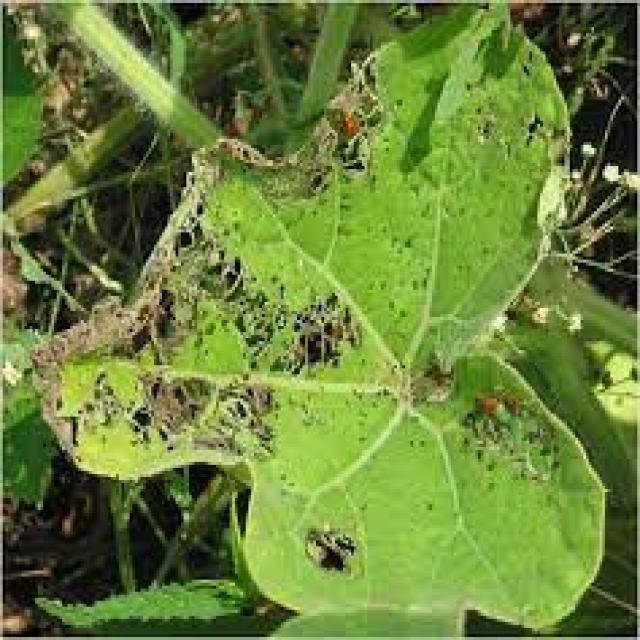Pumpkin Beetle: (128, 200, 368, 370), (135, 376, 316, 466), (30, 300, 124, 464), (458, 382, 566, 508), (311, 51, 399, 176), (461, 80, 568, 156), (294, 506, 382, 595), (203, 124, 302, 183), (386, 352, 458, 424)
